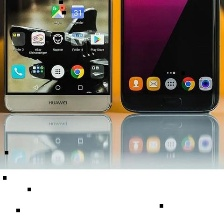phone: (0, 0, 115, 119), (2, 108, 112, 223), (115, 0, 224, 115), (115, 113, 223, 223)
